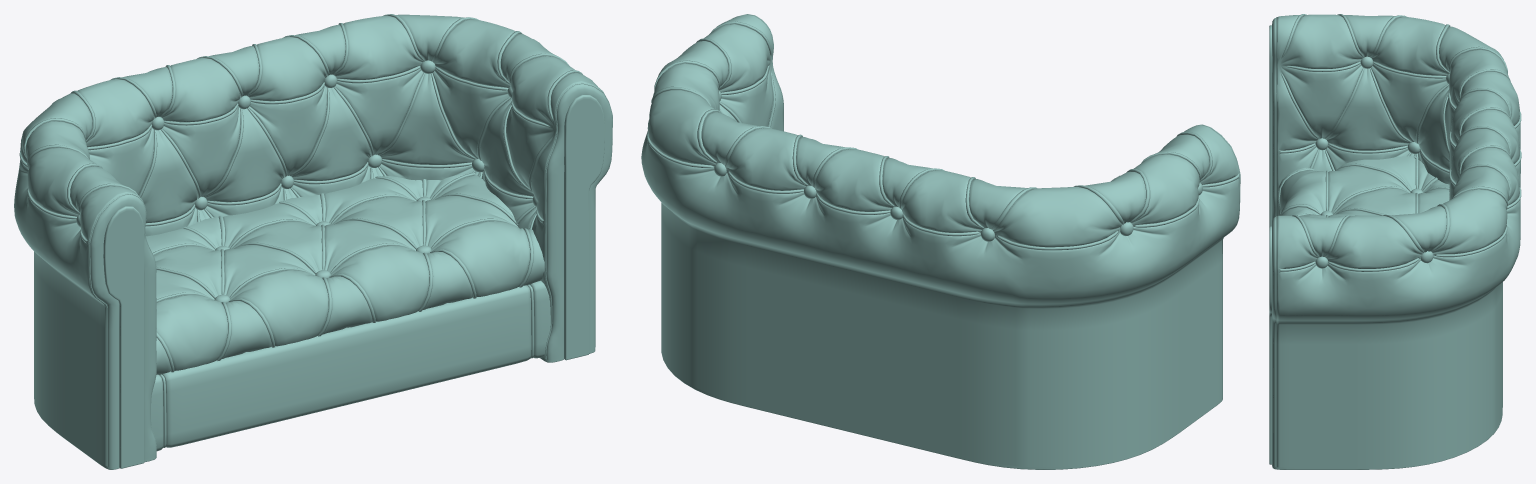
The model's file is sofa_traning_model_01.fbx.
3 views of the same model, side by side, from view 1: azimuth 30°, elevation 25°; view 2: azimuth 150°, elevation 25°; view 3: azimuth 270°, elevation 25° (orthographic). The views are drawn at different scales.
Parts seen in each view (by area): view 1: sofa_tr; view 2: sofa_tr; view 3: sofa_tr.
Part boxes in pixels (left/top/right/bottom): sofa_tr: left=14, top=14, right=612, bottom=469; sofa_tr: left=641, top=14, right=1240, bottom=469; sofa_tr: left=1269, top=14, right=1521, bottom=469.
Bounding box in the file's own units: 71.94 × 35.66 × 33.25.
